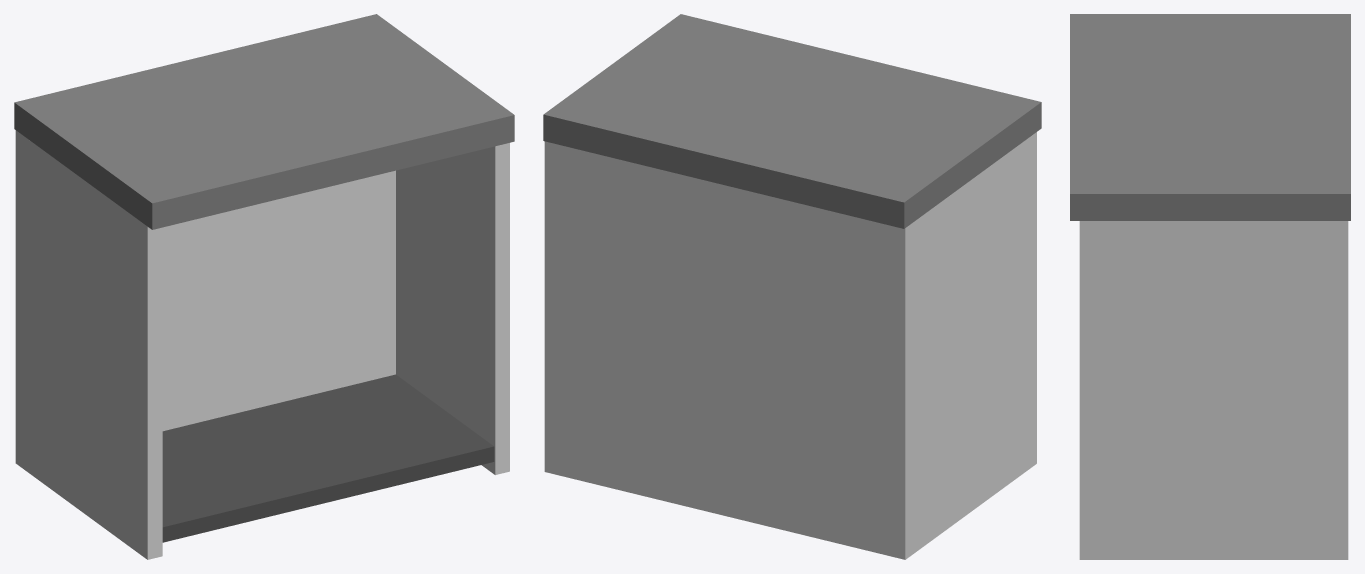
Rendered from Office_CounterB1.fbx.
The picture shows the model from 3 angles, left to right: view 1: azimuth 30°, elevation 25°; view 2: azimuth 150°, elevation 25°; view 3: azimuth 270°, elevation 25°; orthographic projection. The views are drawn at different scales.
Visible parts, largest first — view 1: Office_CounterB1; view 2: Office_CounterB1; view 3: Office_CounterB1.
Boxes of the visible parts, x1,y1,x2,y2 form: Office_CounterB1: (14,14,514,559); Office_CounterB1: (543,14,1041,559); Office_CounterB1: (1070,14,1350,559).
Size of the model in its own units: 100 by 94.9 by 65.95.
